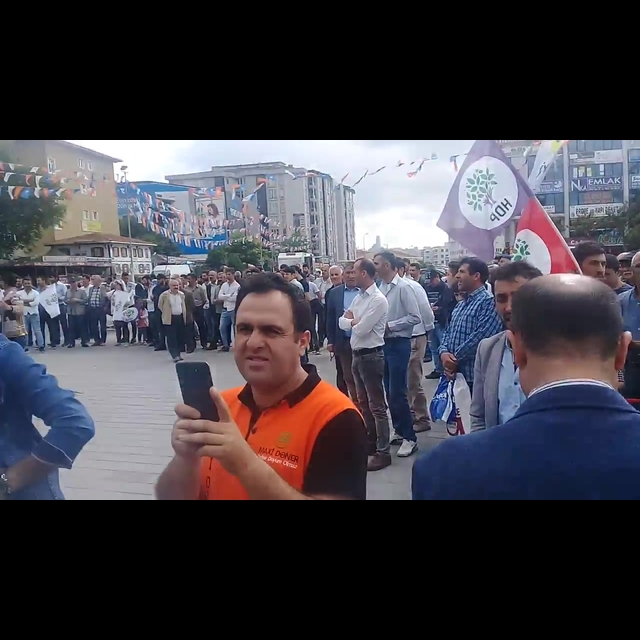HDP: (461, 159, 498, 210)
